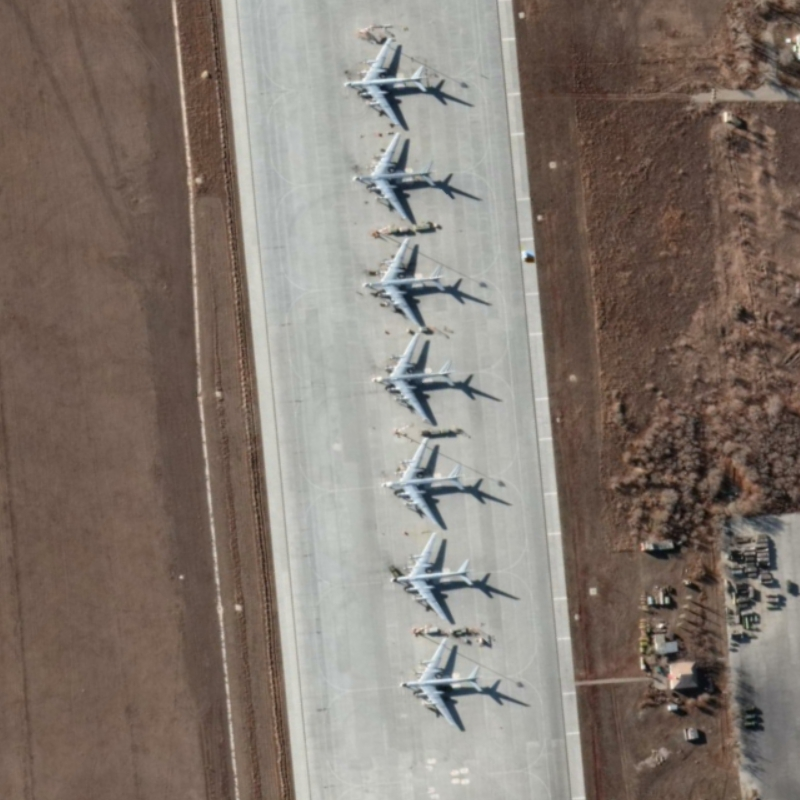A17: (369, 331, 458, 422), (397, 636, 483, 730), (388, 531, 475, 623), (378, 436, 464, 528), (341, 36, 428, 126), (360, 236, 447, 325), (350, 131, 436, 220)
